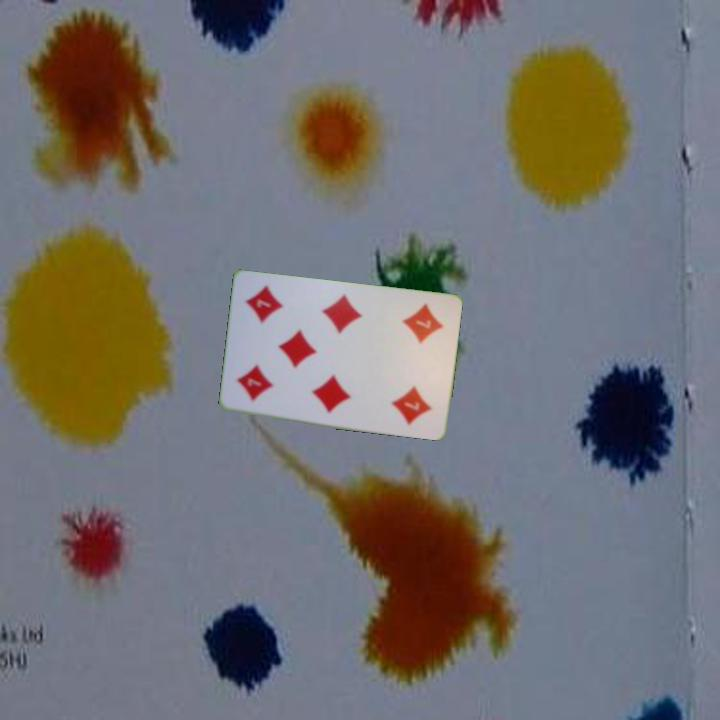d_7.png: (228, 340, 293, 413), (387, 297, 452, 370)
